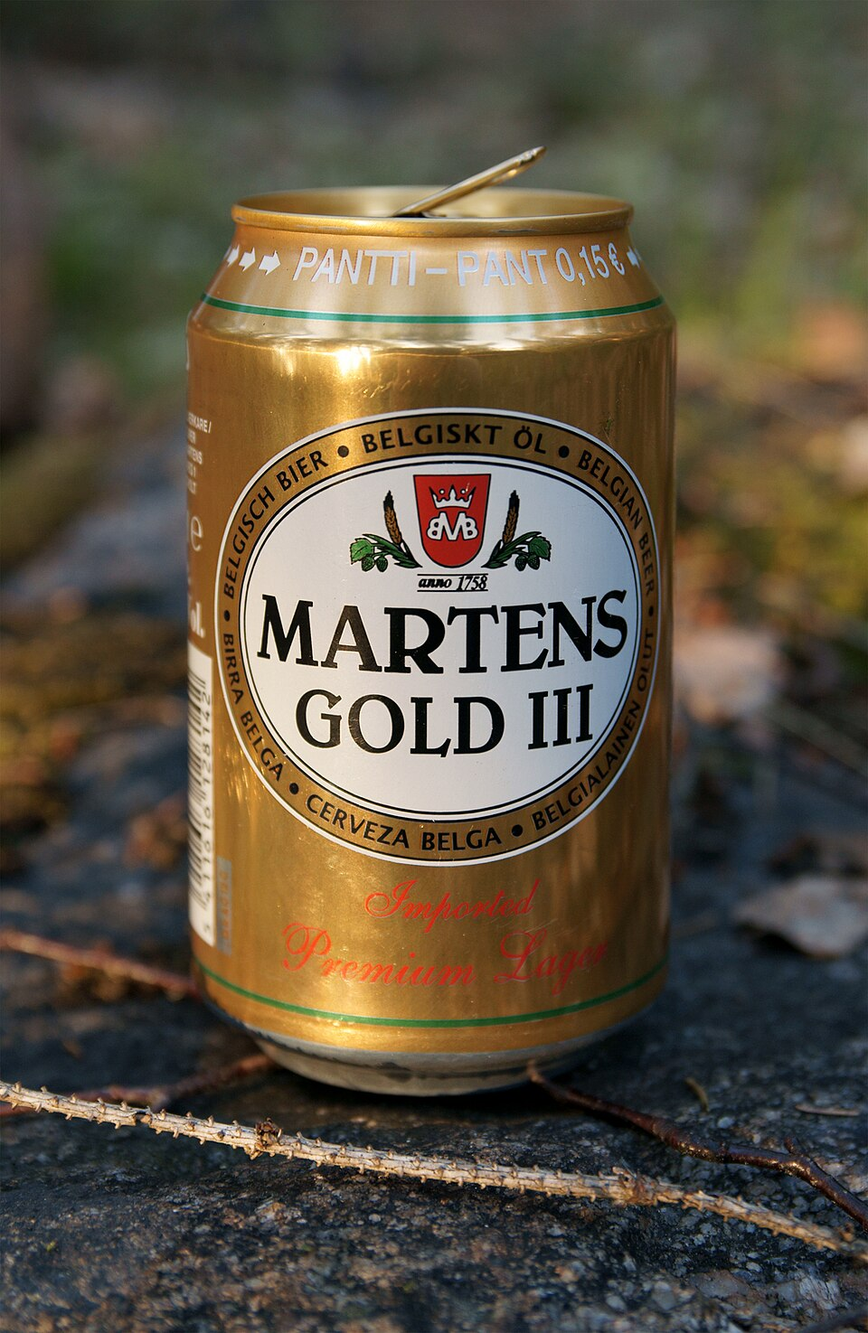beer-can: (179, 178, 690, 1085)
